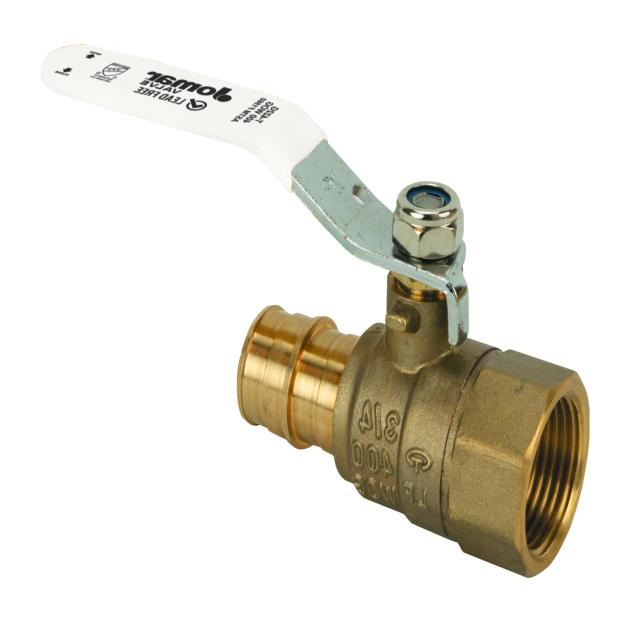opened_valve: (40, 37, 591, 581)
